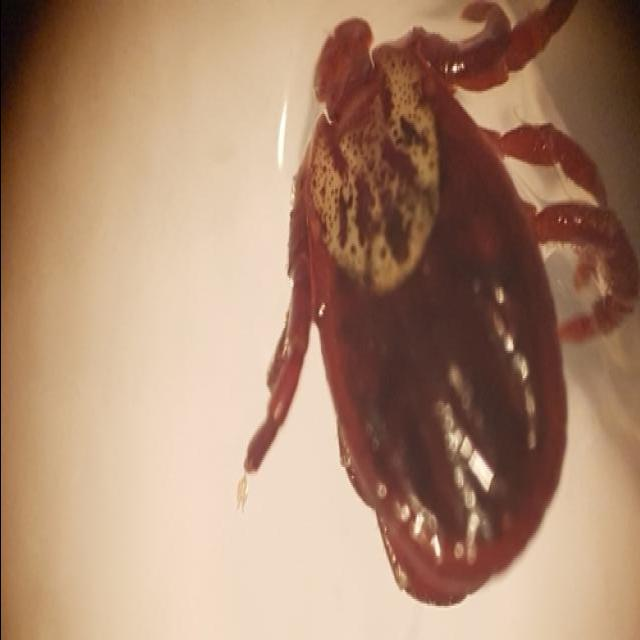Dermacentor Reticulatus-F: (236, 0, 637, 606)
